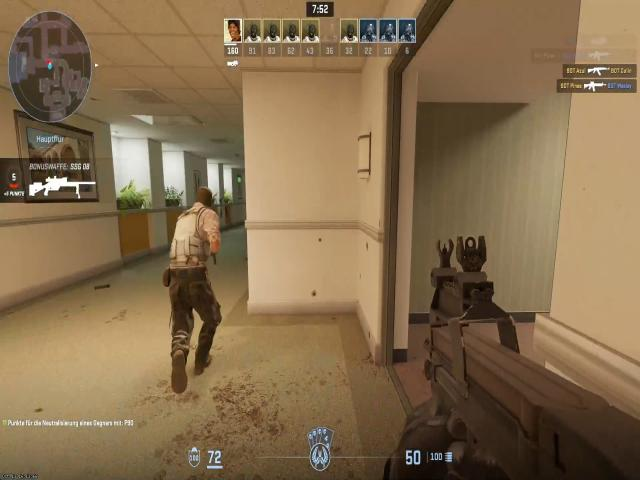T: (161, 180, 225, 284)
T-Head: (188, 182, 220, 217)
